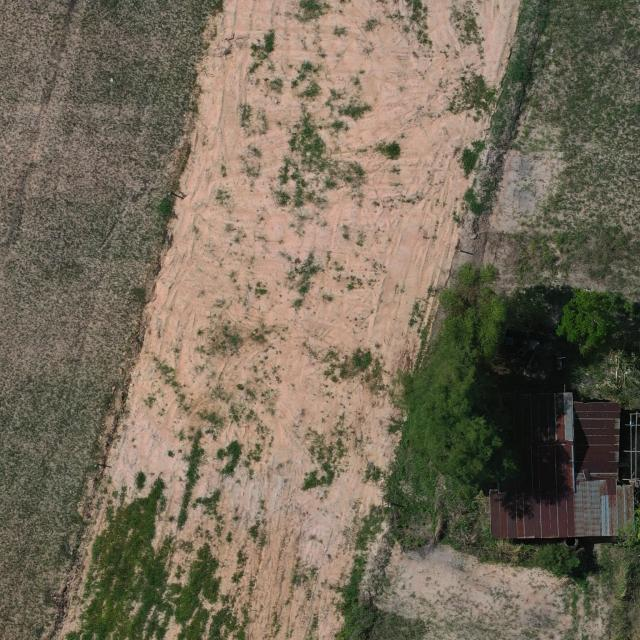Tree: (407, 412, 518, 489), (401, 349, 478, 422), (439, 286, 511, 361), (556, 286, 632, 357), (537, 544, 582, 578)
